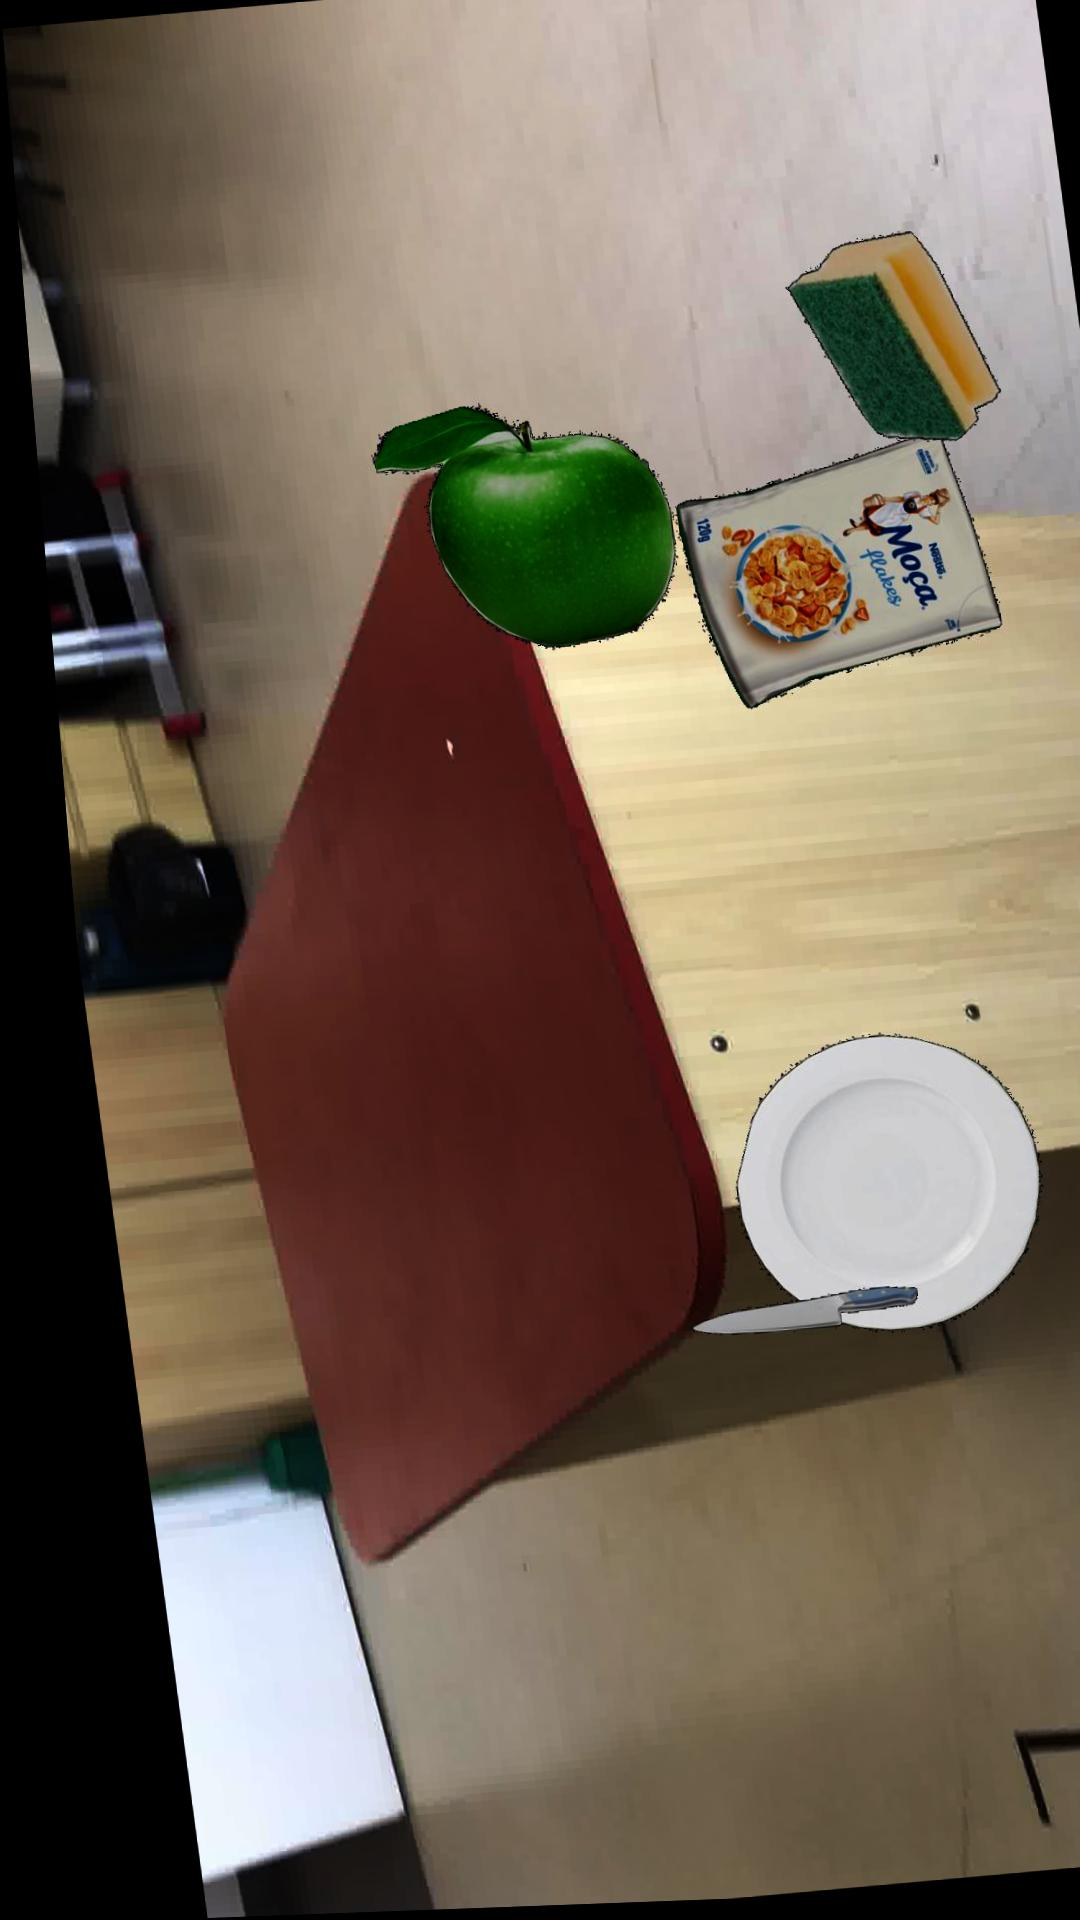corn flakes: (666, 442, 990, 711)
green apple: (364, 406, 666, 649)
knife: (669, 1290, 894, 1336)
plate: (715, 1038, 1019, 1335)
sponge: (781, 236, 993, 446)
